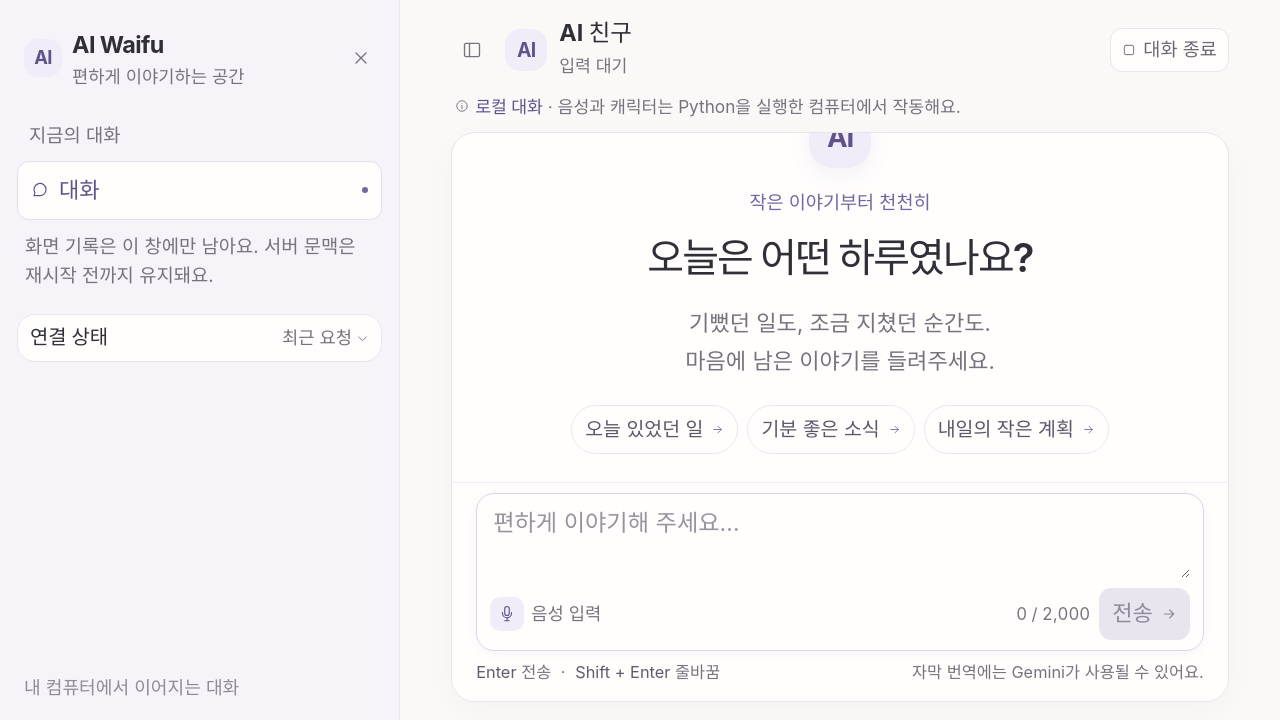
Test: places microphone transcription in the draft and waits for explicit send
(page scrolled)
What coordinates should you click on to do the following:
click the button named "음성 입력 시작"
I would click on:
 (507, 614)
Its box is [490,597,524,631].
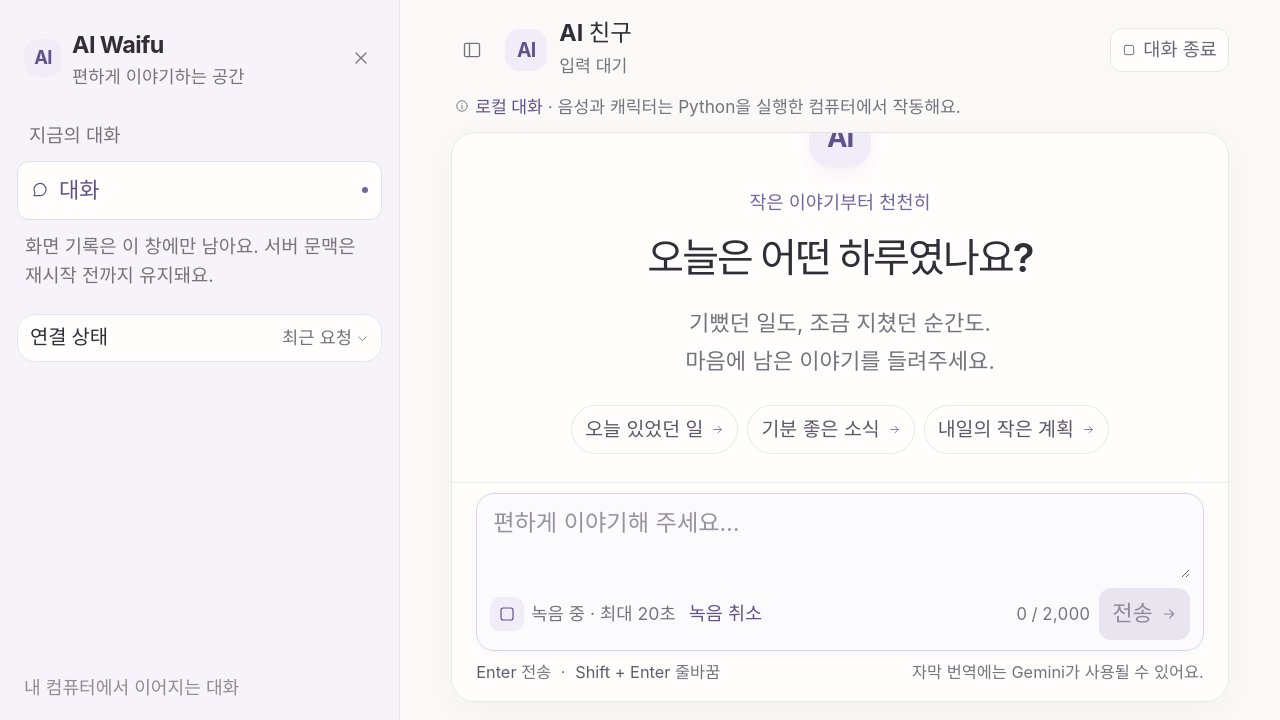
Expected: the text box is disabled, [490,506,1190,578]
What coordinates should you click on to do the following:
click the button named "녹음 종료"
I would click on:
 (507, 614)
Its box is [490,597,524,631].
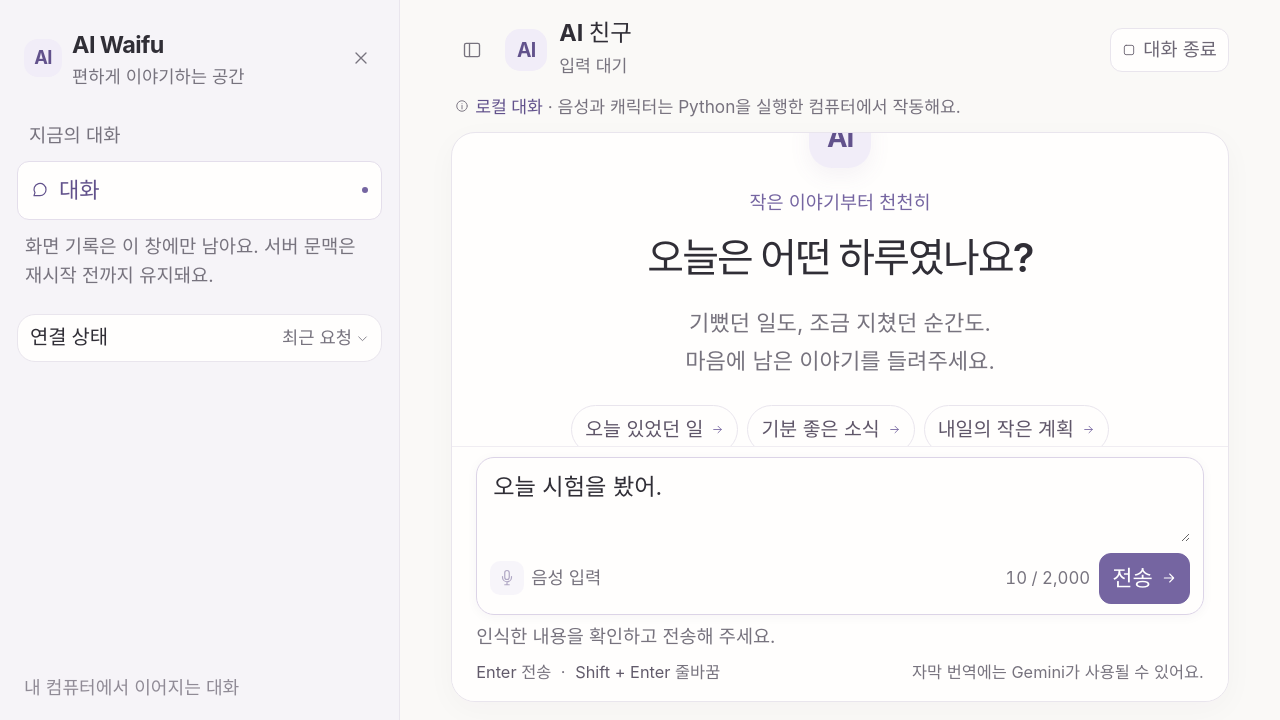
Result: the text box holds "오늘 시험을 봤어." at [490,470,1190,542]
Result: the button "전송" is enabled at [1099,553,1190,604]
Result: the button named "음성 입력 시작" is disabled at [490,561,524,595]
